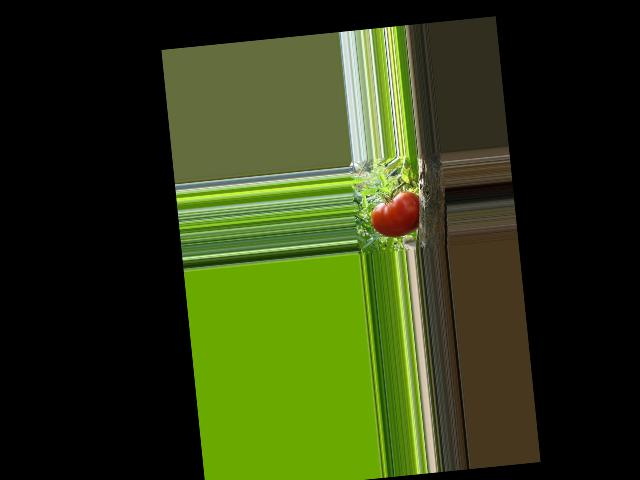tomato: (368, 189, 422, 238)
